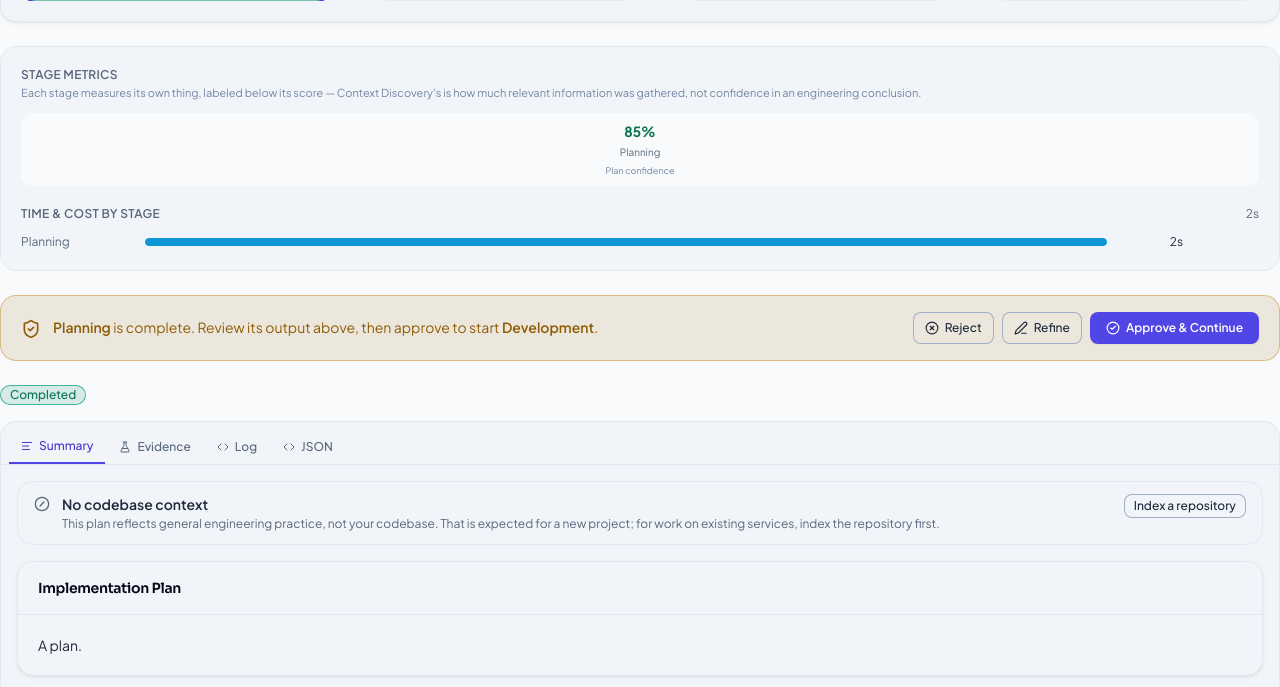
Scenario: WorkflowPage › shows a visible error banner (not a silent no-op) when continueWorkflow rejects with an unexpected error
(page scrolled)
Click the button "Approve & Continue" at (1174, 328), box [1090,312,1259,344]
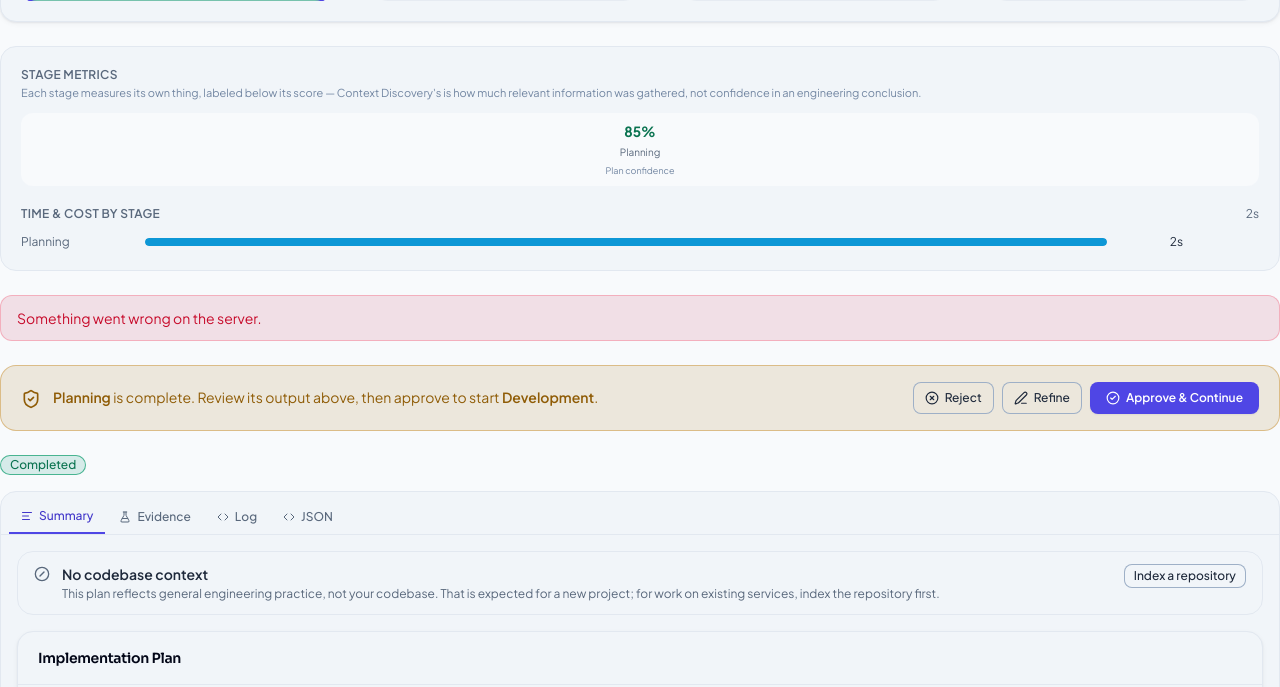
Result: the text "Something went wrong on the server." is shown at [0,294,1279,340]
